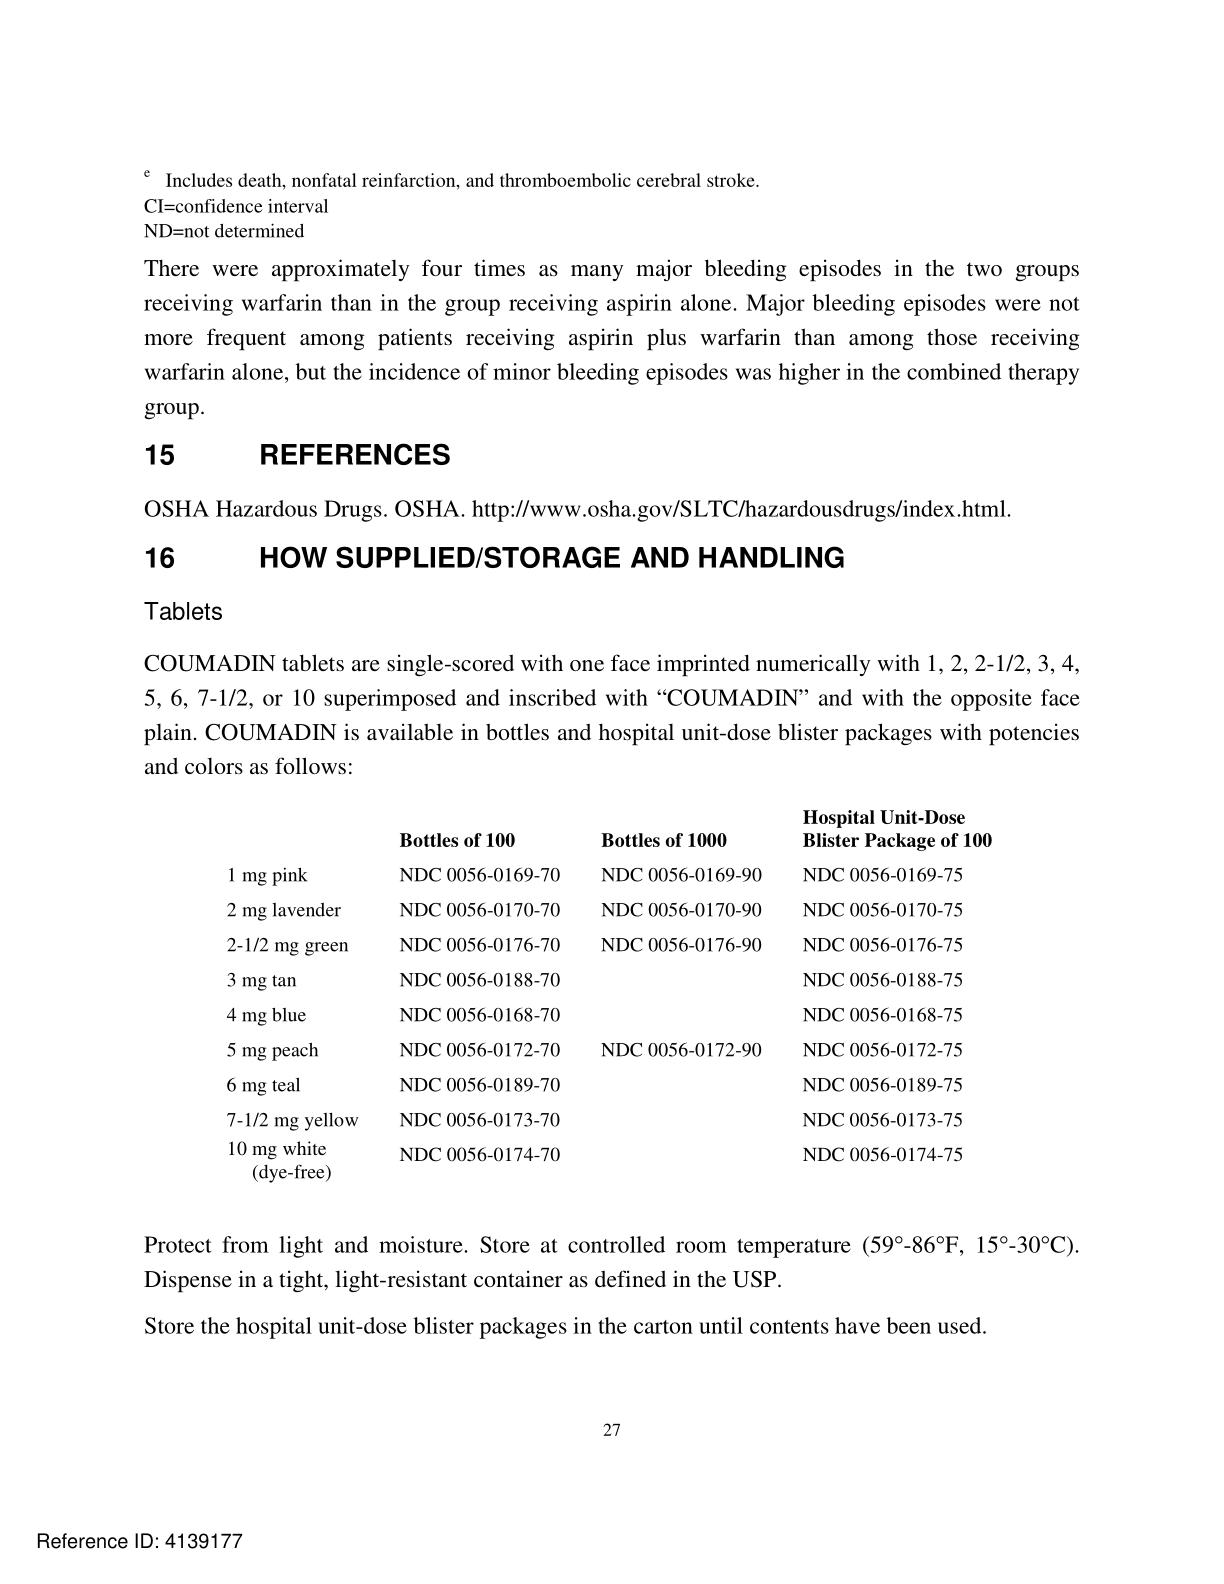nolines: (221, 804, 996, 1183)
